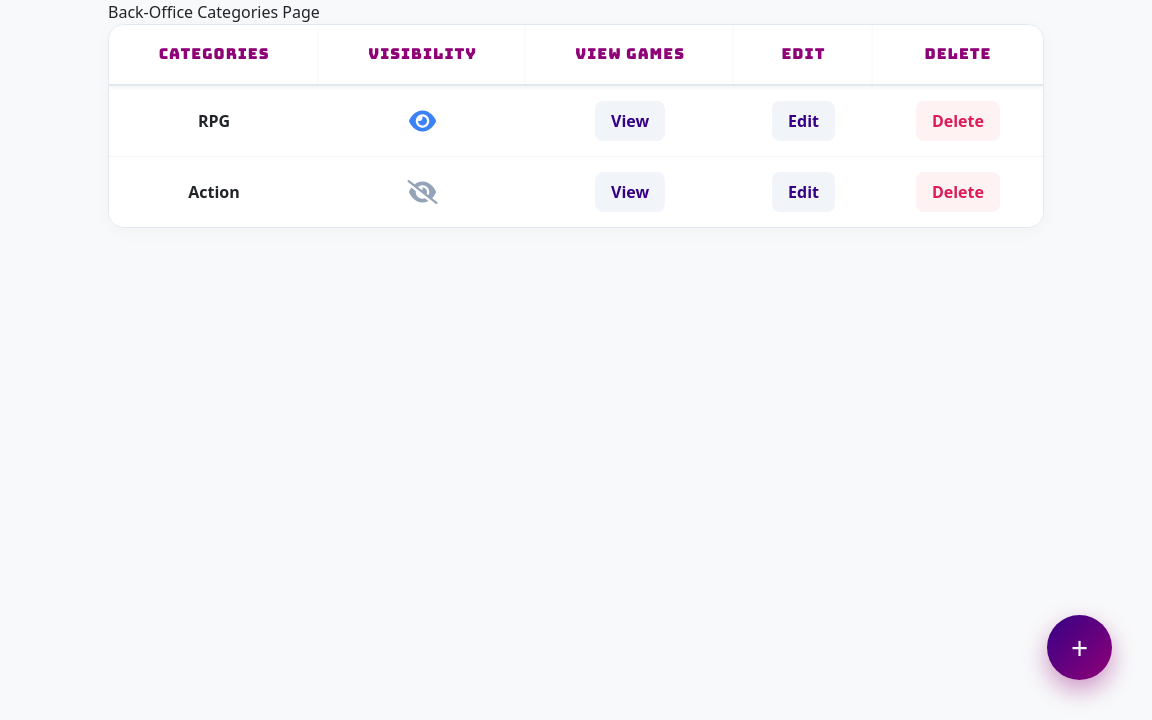
Scenario: AdminCategories › falls back to the generic error message
Click the button named "Add category" at point(1080, 648), box [1047,615,1112,680]
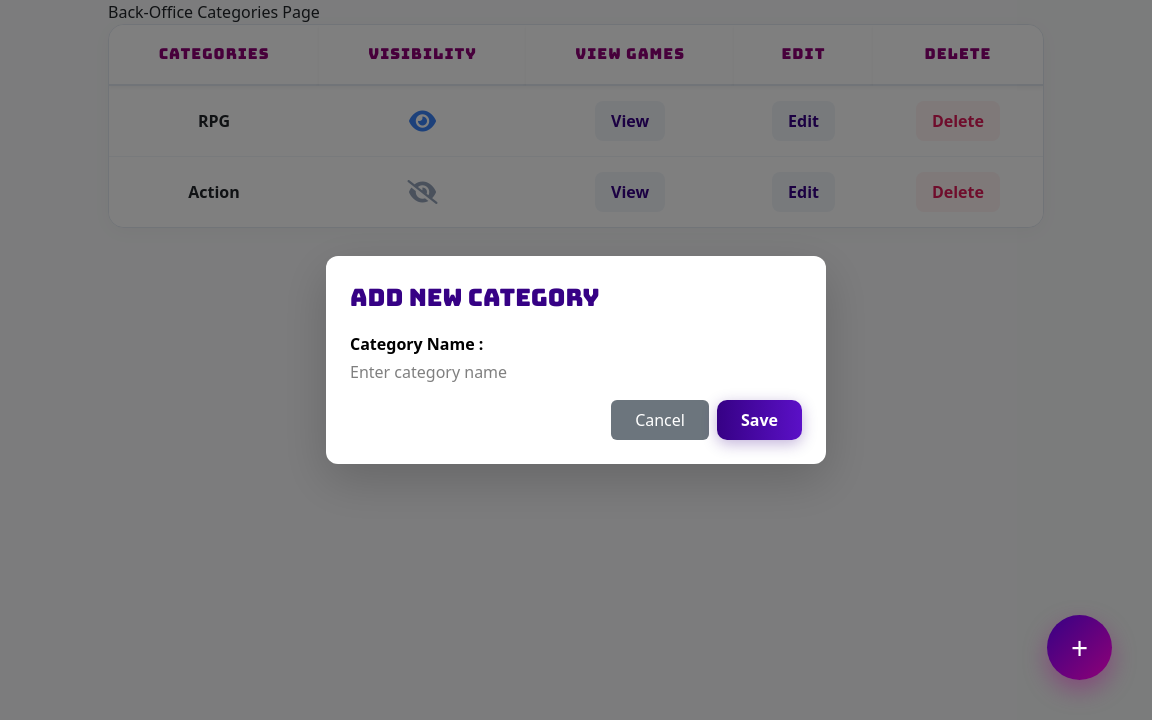
Type "X" into the field with id "cat-name" at point(466, 372), box [350,360,581,384]
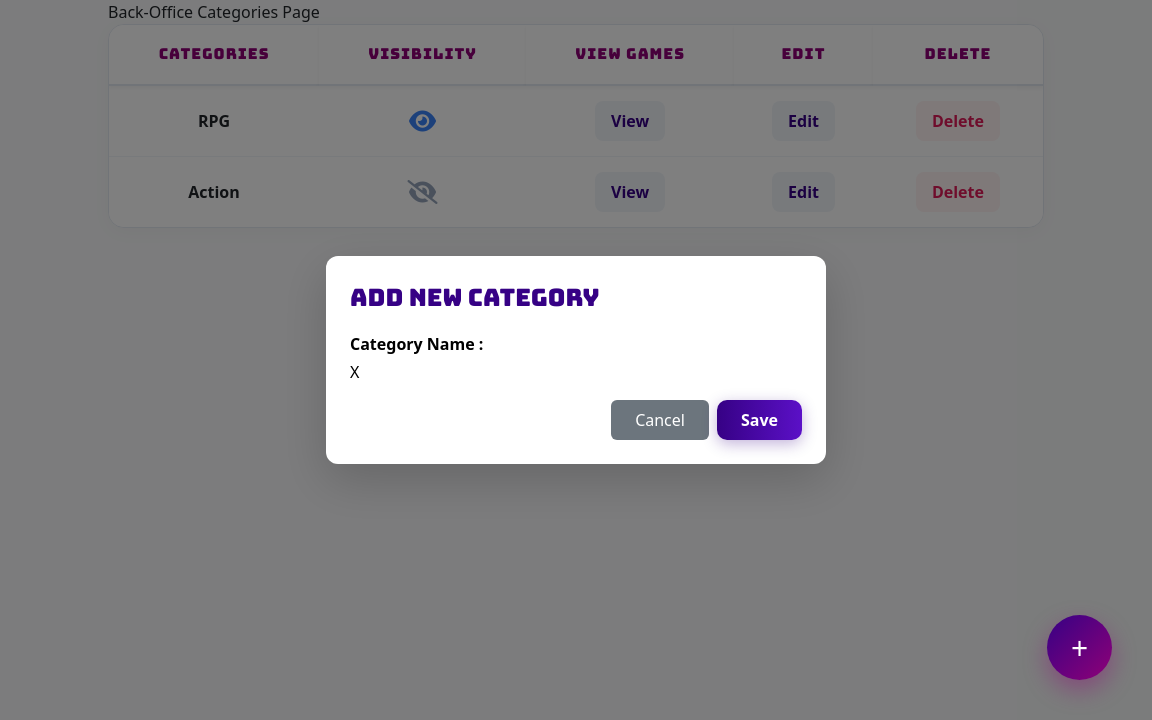
Submit the form, box [326,256,826,464]
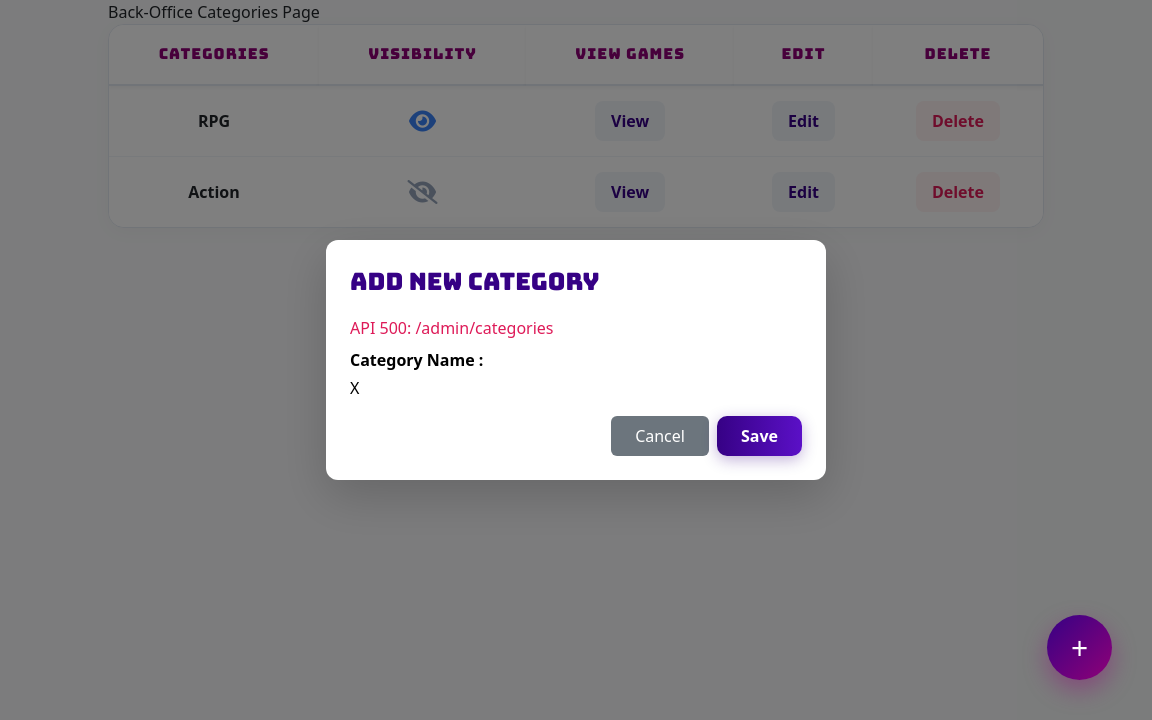
Check: the message "API 500: /admin/categories" is shown, box [350,317,554,339]
